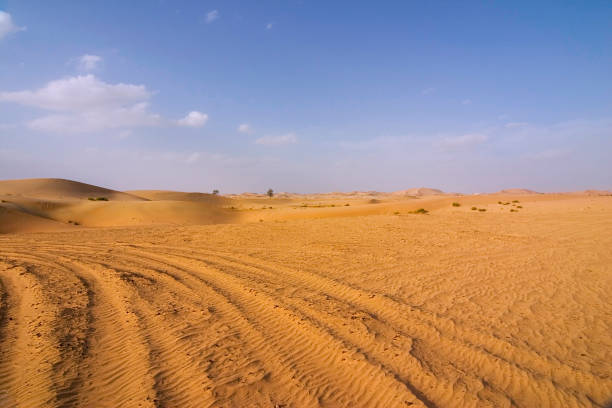vehicle_track: (0, 218, 611, 407), (225, 258, 605, 405)
